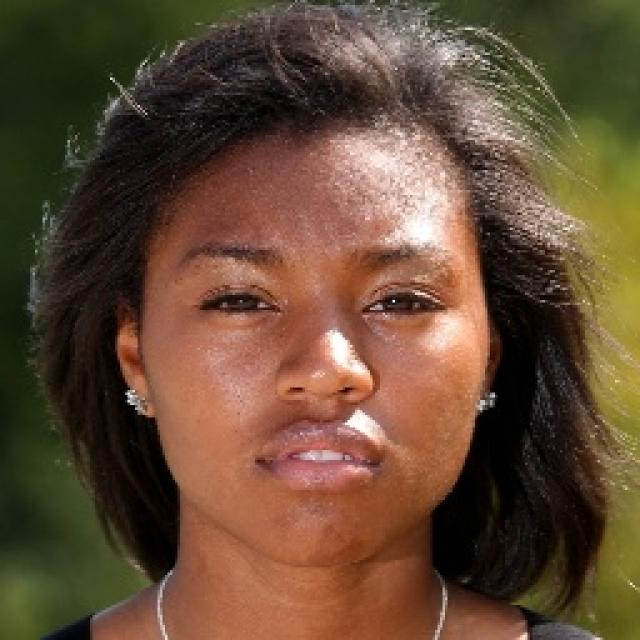earlobe: (125, 375, 157, 419), (478, 375, 498, 414)
eye: (356, 287, 445, 320), (200, 284, 279, 317)
nose: (280, 390, 369, 420)
wholeear: (105, 279, 157, 418), (477, 299, 512, 414)
